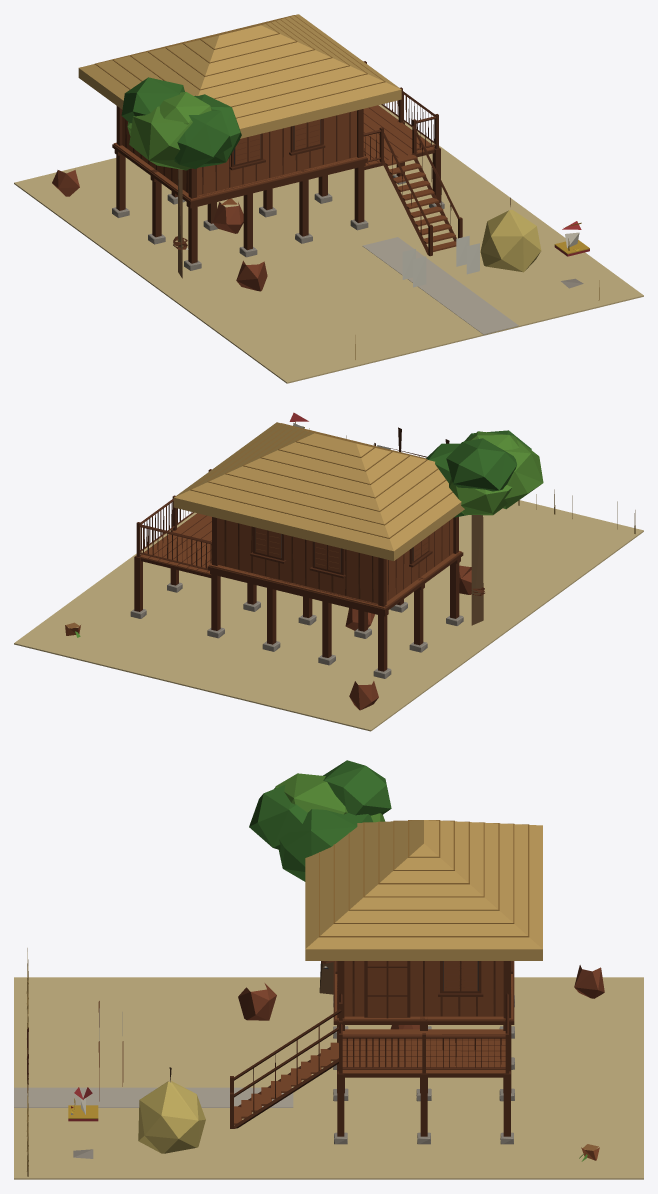
File: house12_1.glb
3 renders of one model, top to bottom at view 1: azimuth 30°, elevation 25°; view 2: azimuth 150°, elevation 25°; view 3: azimuth 270°, elevation 25°, orthographic. The views are drawn at different scales.
Visible parts, largest first — view 1: body; view 2: body; view 3: body.
Part boxes in pixels (x1,y1,x2,y2): body: [14, 14, 643, 383]; body: [14, 412, 643, 731]; body: [14, 760, 643, 1179].
Size of the model in its own units: 12.7 by 6.32 by 15.9.
